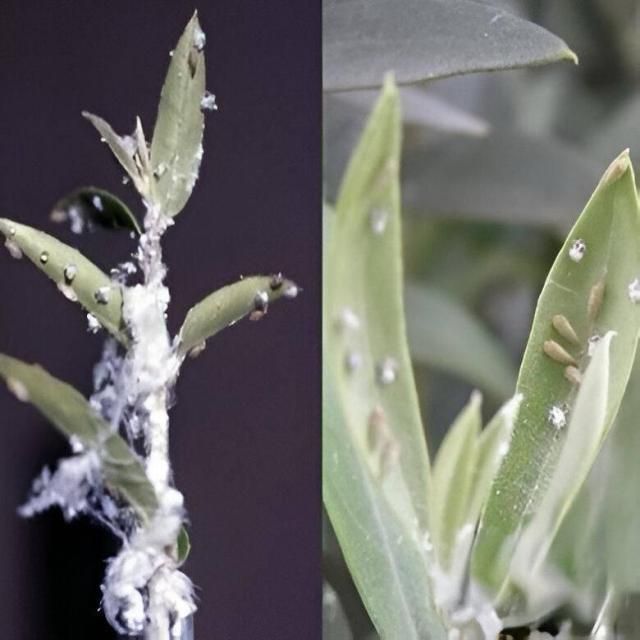Psyllid: (0, 11, 299, 639), (471, 149, 639, 619)
